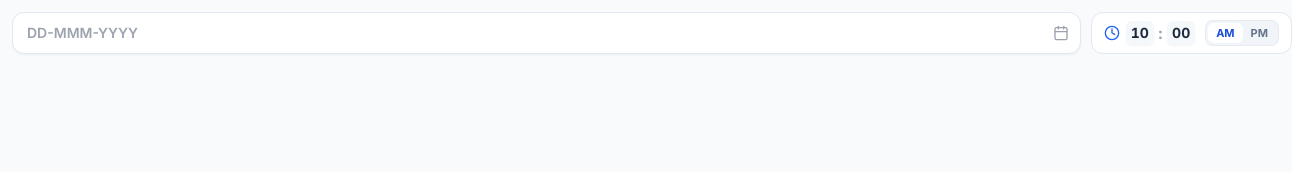
Test: FormattedDateTimeInput › enforces full YYYY-MM-DDTHH:mm min/max bounds on date change, typed time, and arrow step
Type "2026-11-20" into the field with placeholder "DD-MMM-YYYY" at (546, 33), box [12,12,1081,54]
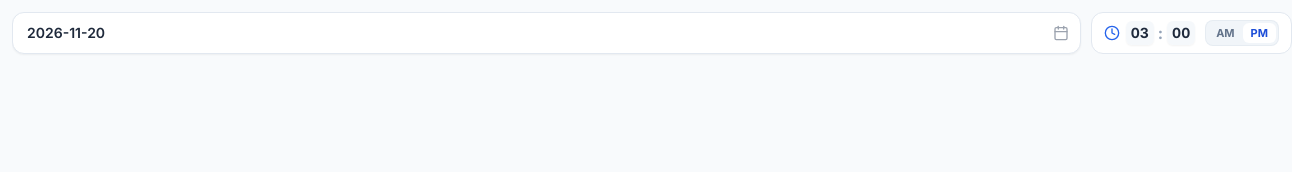
Replace the text in the field named "Hour" with "1" at (1140, 33), box [1126,21,1154,45]
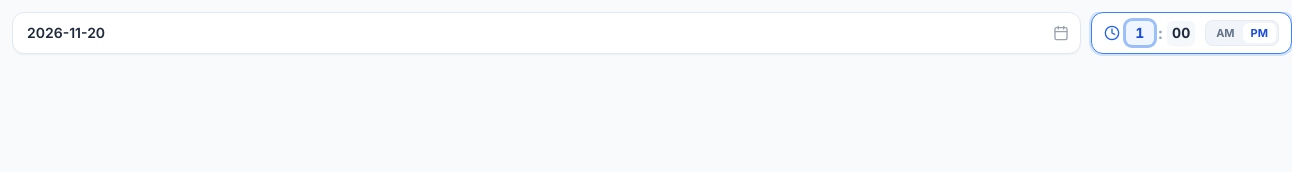
Press Enter in the field named "Hour", box [1126,21,1154,45]
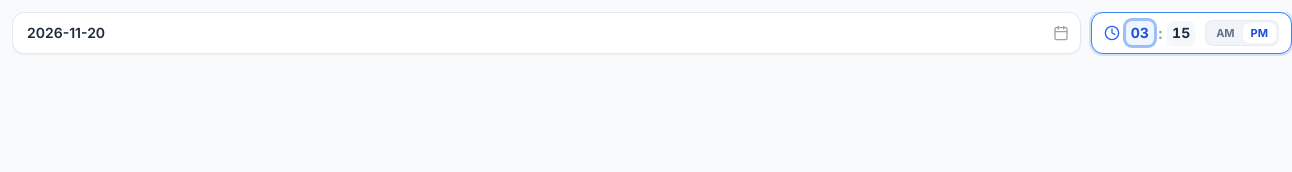
Press ArrowUp in the field named "Hour", box [1126,21,1154,45]
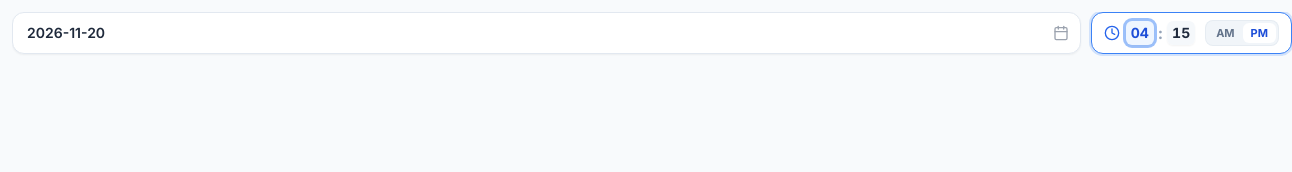
Result: the field named "Hour" holds "04" at [1126,21,1154,45]
